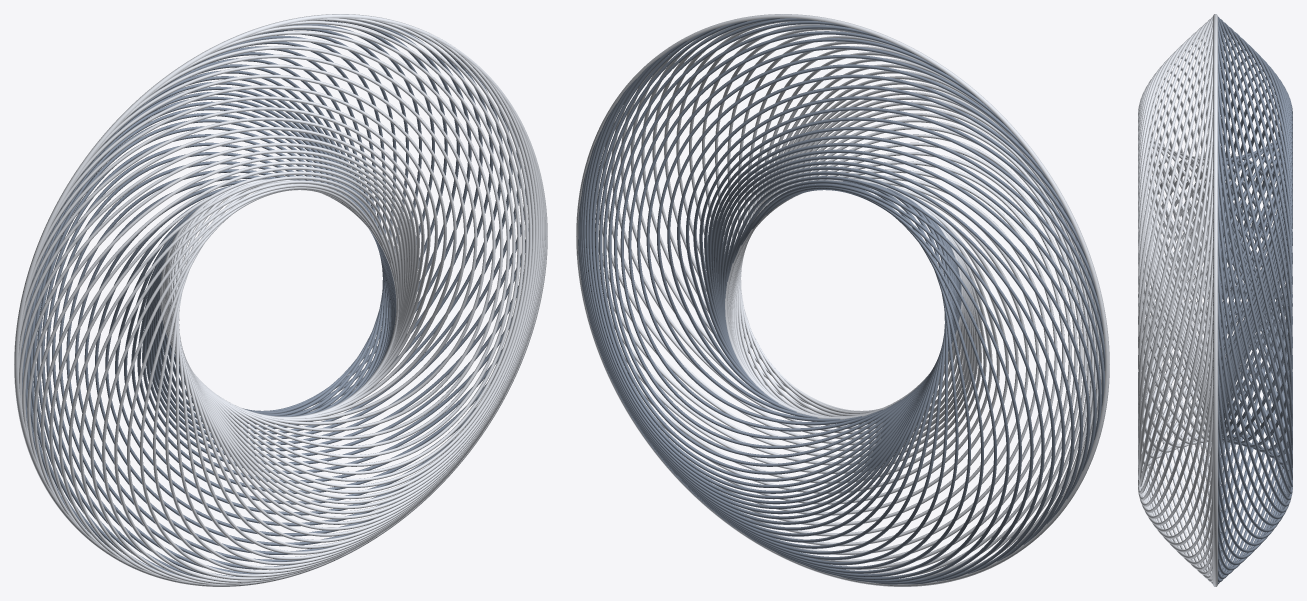
File: 839d3a29-4e91-46e2-b5cc-e16ebbde81b7.glb
3 renders of one model, left to right at view 1: azimuth 30°, elevation 25°; view 2: azimuth 150°, elevation 25°; view 3: azimuth 270°, elevation 25°, orthographic. The views are drawn at different scales.
Visible parts, largest first — view 1: ONE — aro circular externo, ONE — nervura contínua 12, ONE — nervura contínua 13, ONE — nervura contínua 10, ONE — nervura contínua 14, ONE — nervura contínua 11, ONE — nervura contínua 9, ONE — nervura contínua 8, ONE — nervura contínua 15, ONE — nervura contínua 16, ONE — nervura contínua 17, ONE — nervura contínua 7 (+85 smaller); view 2: ONE — aro circular externo, ONE — nervura contínua 12 — verso, ONE — nervura contínua 13 — verso, ONE — nervura contínua 10 — verso, ONE — nervura contínua 14 — verso, ONE — nervura contínua 11 — verso, ONE — nervura contínua 9 — verso, ONE — nervura contínua 8 — verso, ONE — nervura contínua 15 — verso, ONE — nervura contínua 16 — verso, ONE — nervura contínua 17 — verso, ONE — nervura contínua 7 — verso (+85 smaller); view 3: ONE — aro circular externo, ONE — nervura contínua 10, ONE — nervura contínua 10 — verso, ONE — nervura contínua 11, ONE — nervura contínua 11 — verso, ONE — nervura contínua 12, ONE — nervura contínua 12 — verso, ONE — nervura contínua 9, ONE — nervura contínua 9 — verso, ONE — nervura contínua 13, ONE — nervura contínua 13 — verso, ONE — nervura contínua 7 (+85 smaller).
Boxes of the visible parts, x1,y1,x2,y2 form: ONE — aro circular externo: [14, 14, 547, 586]; ONE — nervura contínua 12: [207, 20, 509, 448]; ONE — nervura contínua 13: [223, 25, 503, 439]; ONE — nervura contínua 10: [199, 18, 520, 466]; ONE — nervura contínua 14: [207, 31, 495, 431]; ONE — nervura contínua 11: [204, 18, 515, 458]; ONE — nervura contínua 9: [171, 21, 524, 474]; ONE — nervura contínua 8: [165, 28, 528, 481]; ONE — nervura contínua 15: [176, 38, 486, 425]; ONE — nervura contínua 16: [146, 46, 477, 421]; ONE — nervura contínua 17: [117, 54, 466, 418]; ONE — nervura contínua 7: [162, 41, 532, 487]; ONE — aro circular externo: [576, 14, 1109, 586]; ONE — nervura contínua 12 — verso: [614, 20, 916, 448]; ONE — nervura contínua 13 — verso: [620, 25, 900, 439]; ONE — nervura contínua 10 — verso: [603, 18, 924, 466]; ONE — nervura contínua 14 — verso: [628, 31, 916, 431]; ONE — nervura contínua 11 — verso: [608, 18, 919, 458]; ONE — nervura contínua 9 — verso: [599, 21, 952, 474]; ONE — nervura contínua 8 — verso: [595, 28, 958, 481]; ONE — nervura contínua 15 — verso: [637, 38, 947, 425]; ONE — nervura contínua 16 — verso: [646, 46, 977, 421]; ONE — nervura contínua 17 — verso: [657, 54, 1006, 418]; ONE — nervura contínua 7 — verso: [591, 41, 961, 487]; ONE — aro circular externo: [1213, 14, 1217, 586]; ONE — nervura contínua 10: [1138, 86, 1212, 480]; ONE — nervura contínua 10 — verso: [1218, 86, 1292, 480]; ONE — nervura contínua 11: [1138, 64, 1212, 472]; ONE — nervura contínua 11 — verso: [1218, 64, 1292, 472]; ONE — nervura contínua 12: [1138, 46, 1212, 465]; ONE — nervura contínua 12 — verso: [1218, 46, 1292, 465]; ONE — nervura contínua 9: [1138, 112, 1212, 487]; ONE — nervura contínua 9 — verso: [1218, 112, 1292, 487]; ONE — nervura contínua 13: [1138, 32, 1212, 458]; ONE — nervura contínua 13 — verso: [1218, 32, 1292, 458]; ONE — nervura contínua 7: [1138, 174, 1212, 500].
Bounding box in the file's own units: 1.77 × 1.77 × 0.4795.
